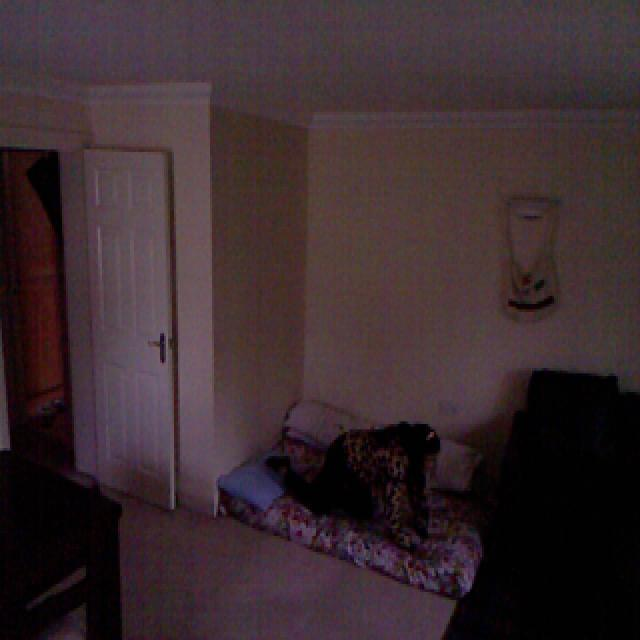Fall: (251, 398, 470, 571)
